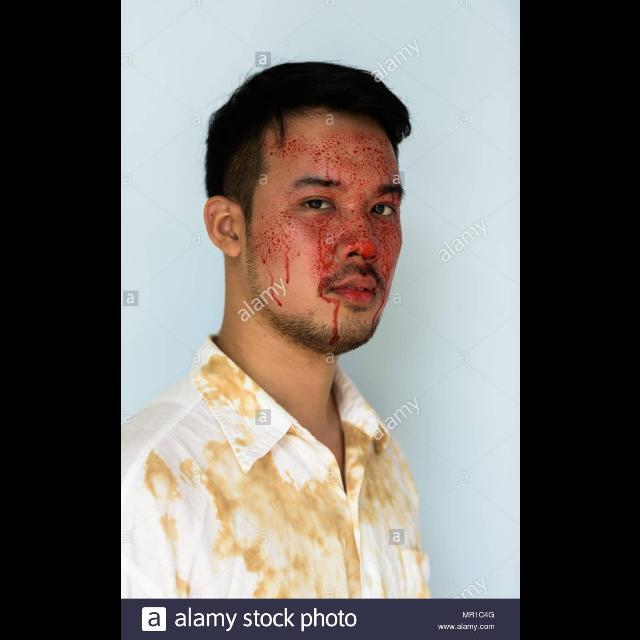blood: (246, 127, 401, 348)
